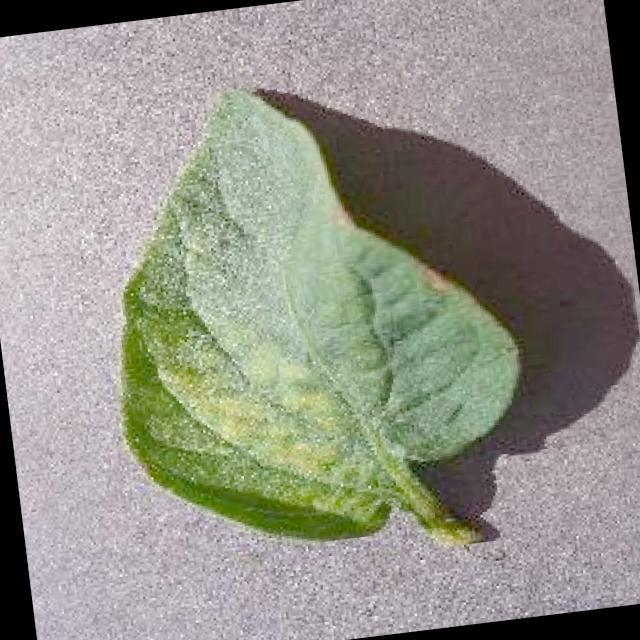Tomato spider mites leaf: (86, 48, 538, 562)
